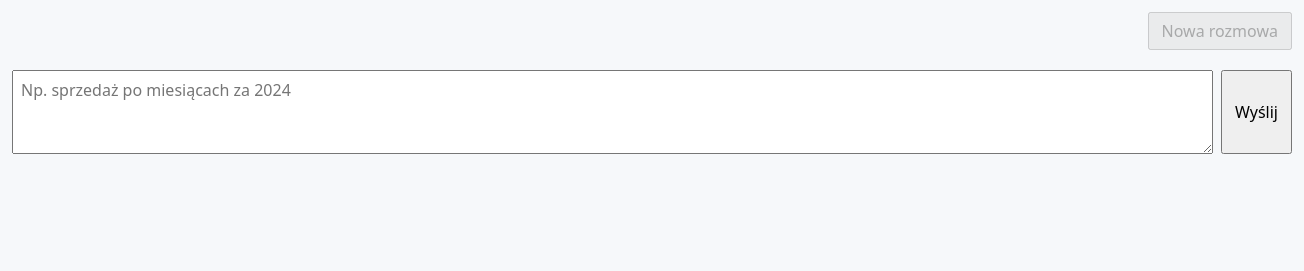
Test: ChatView › locks sending and shows the waiting time while a turn runs
This screenshot has width=1304, height=271.
Later steps or results of the test are not shown.
Type "Raport" into the text box named "Twoja prośba". click: (612, 112)
box: [12,70,1213,154]
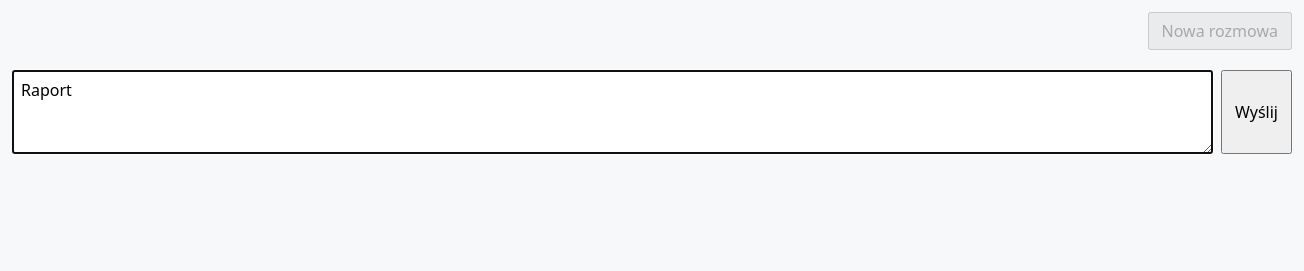
Click the button "Wyślij". click: (1256, 112)
box: [1221,70,1292,154]
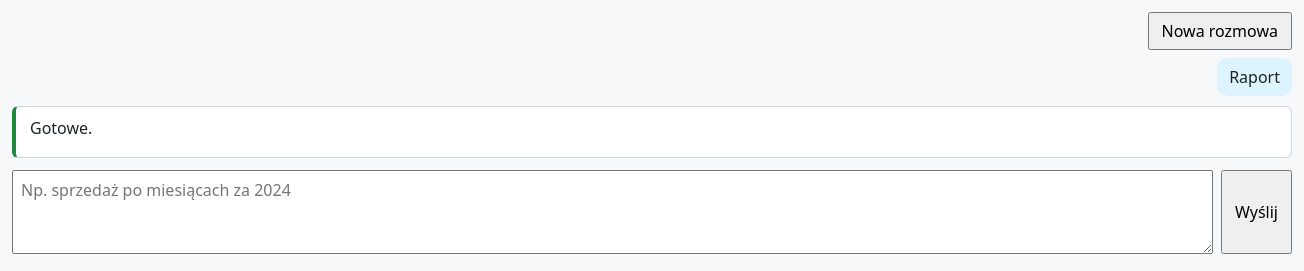
Expected: the text box named "Twoja prośba" is enabled, [12,170,1213,254]
Result: the text box named "Twoja prośba" is empty at [12,170,1213,254]
